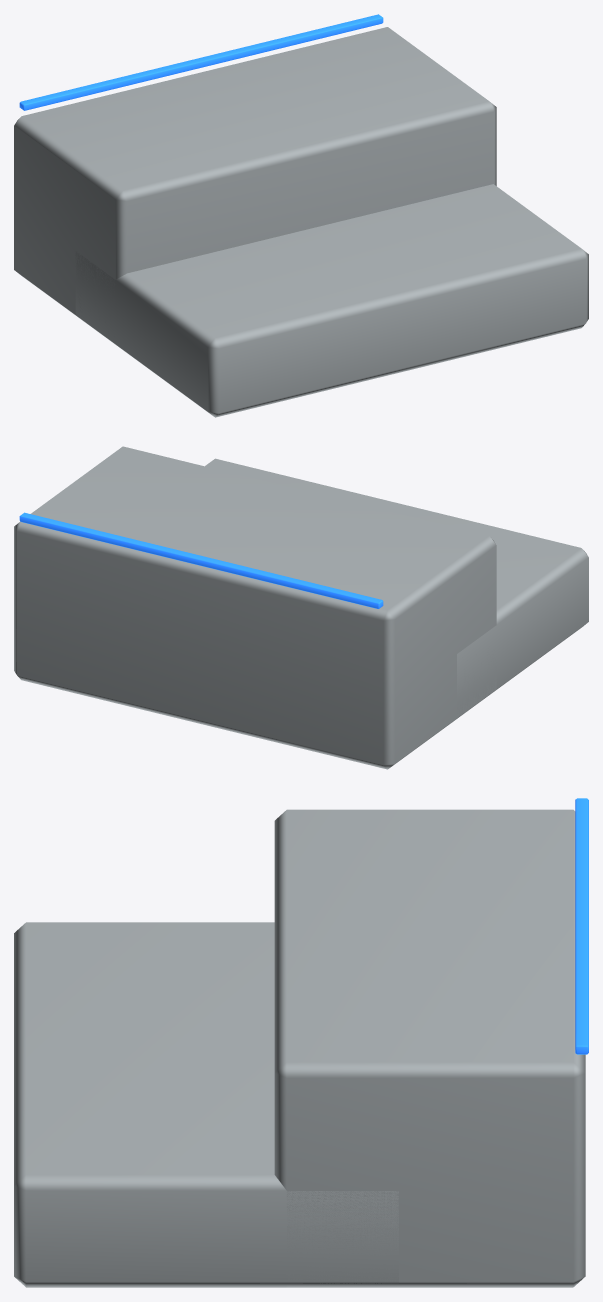
File: Step_Module_2_Tier.fbx
3 renders of one model, top to bottom at view 1: azimuth 30°, elevation 25°; view 2: azimuth 150°, elevation 25°; view 3: azimuth 270°, elevation 25°, orthographic. The views are drawn at different scales.
Parts seen in each view (by area): view 1: Upper step, Lower step, Step lip; view 2: Upper step, Lower step, Step lip; view 3: Upper step, Lower step, Step lip.
Boxes of the visible parts, x1,y1,x2,y2 form: Upper step: (14,27,496,347); Lower step: (75,184,588,417); Step lip: (19,14,383,110); Upper step: (14,446,496,769); Lower step: (205,458,588,720); Step lip: (19,512,383,608); Upper step: (274,809,585,1287); Lower step: (14,922,398,1287); Step lip: (575,798,588,1054).
Size of the model in its own units: 180 by 76.5 by 167.
